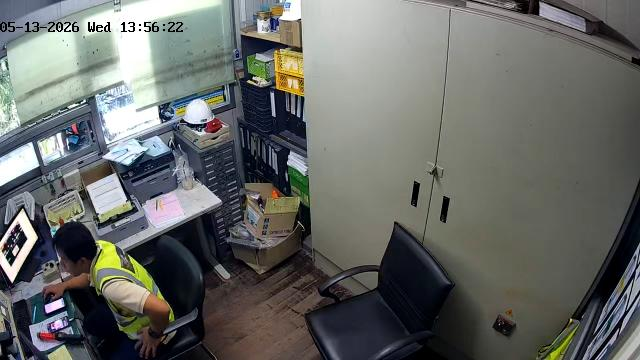Head: (53, 222, 96, 276)
People: (43, 222, 174, 359)
Phone: (44, 298, 66, 316), (47, 316, 69, 332)
